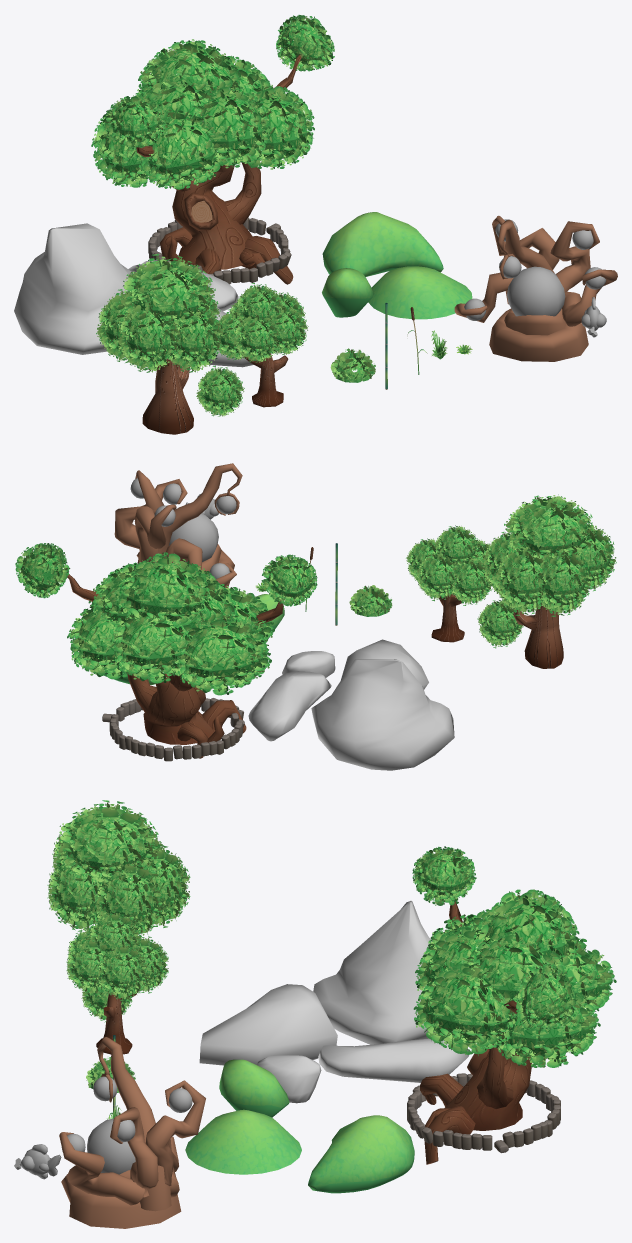
Rendered from ALLES_GECOMBINED.fbx.
The picture shows the model from 3 angles, top to bottom: view 1: azimuth 30°, elevation 25°; view 2: azimuth 150°, elevation 25°; view 3: azimuth 270°, elevation 25°; orthographic projection. The views are drawn at different scales.
Visible parts, largest first — view 1: boom2_bladeren, Boom_bladeren (×2), steen_2, hout, boom2_hout, heuvel_3, heuvel_2, boom_stam (×2), vissenkommen, boom2_omhulsel, heuvel_1, bladeren (+2 smaller); view 2: boom2_bladeren, Boom_bladeren (×2), steen_2, hout, boom2_hout, steen_3, boom_stam (×2), boom2_omhulsel, vissenkommen, bladeren, steen_1, Bosje (+1 smaller); view 3: boom2_bladeren, Boom_bladeren (×2), hout, steen_2, steen_1, boom2_hout, heuvel_3, heuvel_2, steen_3, boom2_omhulsel, vissenkommen, heuvel_1 (+4 smaller).
Boxes of the visible parts, x1,y1,x2,y2 form: boom2_bladeren: (91,14,334,189); Boom_bladeren (×2): (96,254,308,372); steen_2: (14,223,133,354); hout: (454,215,617,361); boom2_hout: (136,54,302,284); heuvel_3: (322,212,443,276); heuvel_2: (368,266,472,319); boom_stam (×2): (142,353,288,434); vissenkommen: (464,219,606,320); boom2_omhulsel: (148,217,291,284); heuvel_1: (322,268,374,317); bladeren: (196,365,244,416); boom2_bladeren: (15,543,317,695); Boom_bladeren (×2): (406,494,616,616); steen_2: (311,659,454,770); hout: (114,463,242,587); boom2_hout: (66,572,284,758); steen_3: (248,671,331,741); boom_stam (×2): (431,593,563,668); boom2_omhulsel: (102,698,244,761); vissenkommen: (130,478,236,578); bladeren: (477,600,523,648); steen_1: (341,639,428,689); Bosje: (349,585,392,616); boom2_bladeren: (412,846,616,1067); Boom_bladeren (×2): (47,800,190,1000); hout: (59,1037,205,1228); steen_2: (313,901,435,1044); steen_1: (199,984,337,1065); boom2_hout: (420,901,531,1164); heuvel_3: (308,1115,414,1193); heuvel_2: (185,1109,301,1174); steen_3: (318,1038,470,1082); boom2_omhulsel: (407,1073,560,1153); vissenkommen: (61,1076,192,1174); heuvel_1: (219,1059,289,1117).
Bounding box in the file's own units: 29.27 × 12.51 × 28.
